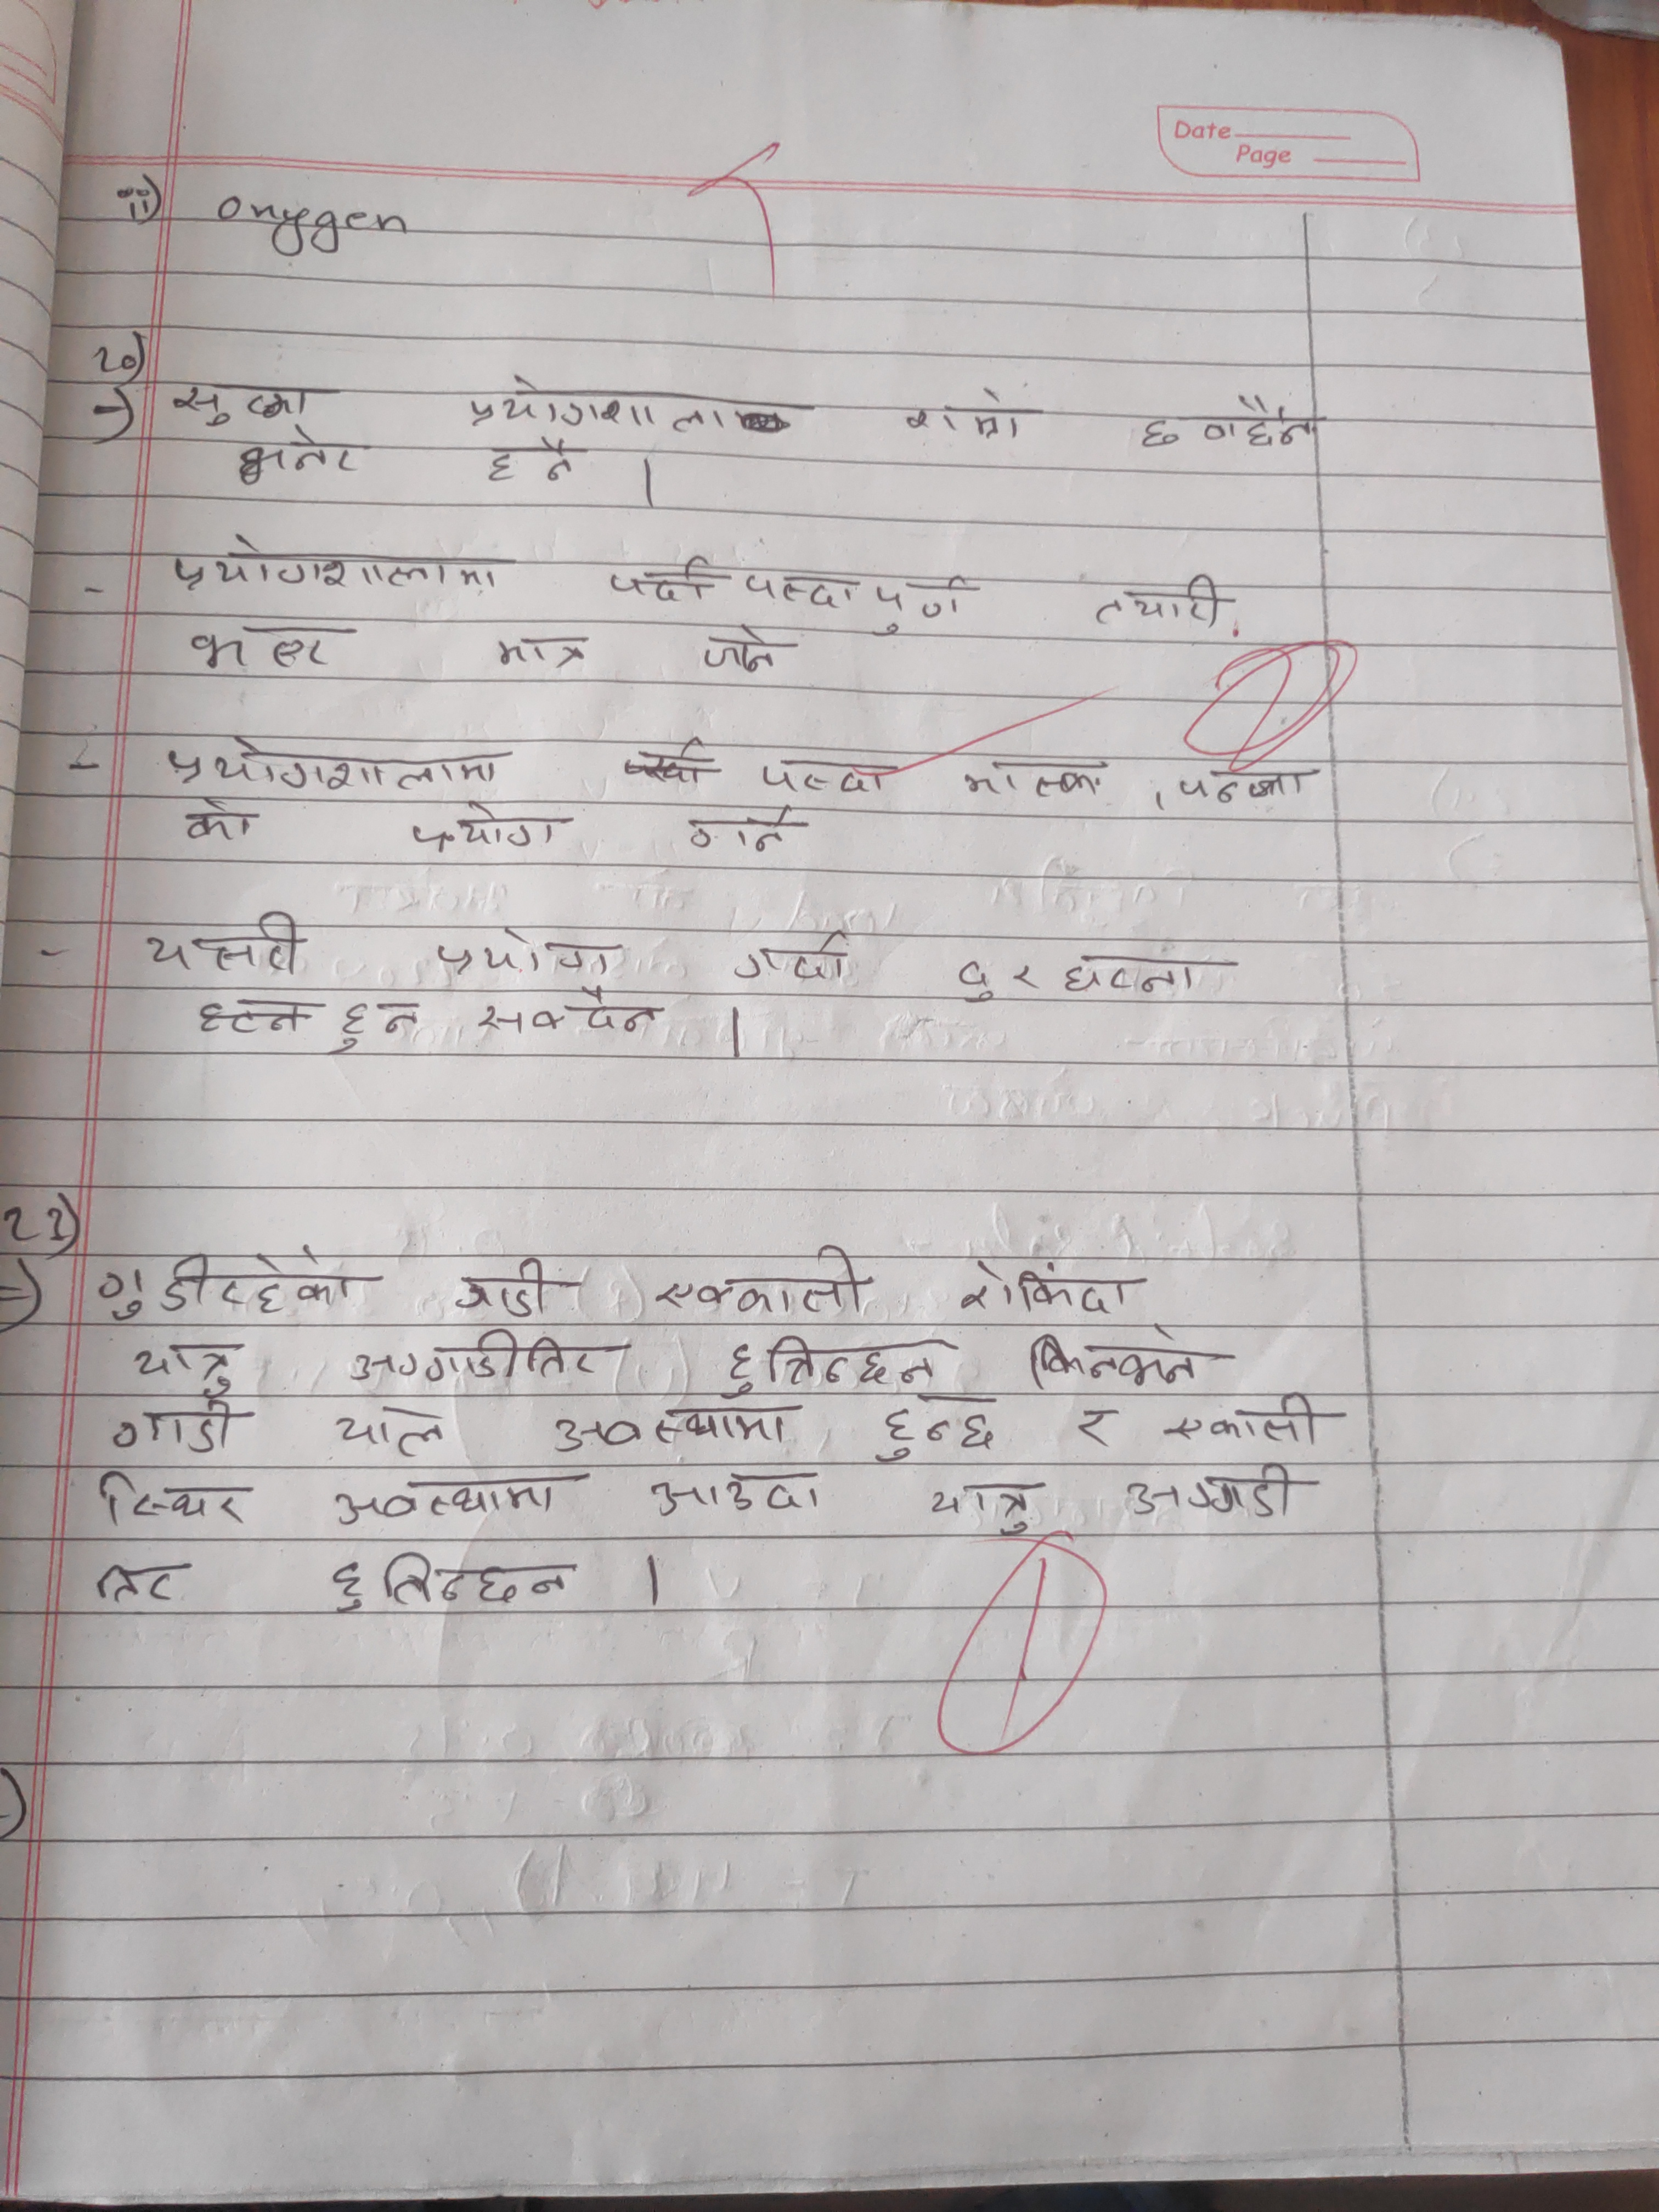text: (87, 1244, 371, 1329), (159, 726, 518, 792), (164, 529, 511, 597), (953, 946, 1248, 1015), (321, 1543, 584, 1611), (467, 373, 734, 434), (652, 1247, 871, 1320), (551, 1390, 798, 1453), (343, 1334, 629, 1388), (713, 1331, 946, 1393), (319, 1472, 579, 1524), (950, 1261, 1152, 1322), (1019, 1332, 1223, 1392), (143, 909, 308, 981), (1117, 1458, 1305, 1521), (429, 920, 622, 979), (471, 982, 673, 1038), (1161, 1390, 1328, 1449), (185, 613, 347, 672), (408, 803, 579, 859), (164, 378, 342, 430), (647, 1468, 823, 1521), (106, 1393, 244, 1460), (870, 1397, 1004, 1463), (96, 1472, 256, 1526), (328, 1393, 451, 1463), (964, 751, 1117, 805), (453, 1252, 568, 1324), (235, 427, 361, 491), (1093, 571, 1225, 632), (732, 923, 864, 982), (906, 383, 1030, 446), (1199, 390, 1324, 451), (755, 749, 896, 803), (113, 1339, 240, 1397), (1176, 765, 1331, 810), (875, 568, 976, 636), (683, 803, 817, 853), (922, 1482, 1042, 1538), (699, 624, 796, 678), (748, 566, 856, 613), (486, 432, 577, 488), (486, 629, 596, 672), (331, 1000, 418, 1054), (87, 1555, 181, 1602), (181, 796, 256, 843), (1073, 1402, 1127, 1453), (1136, 409, 1183, 453)
